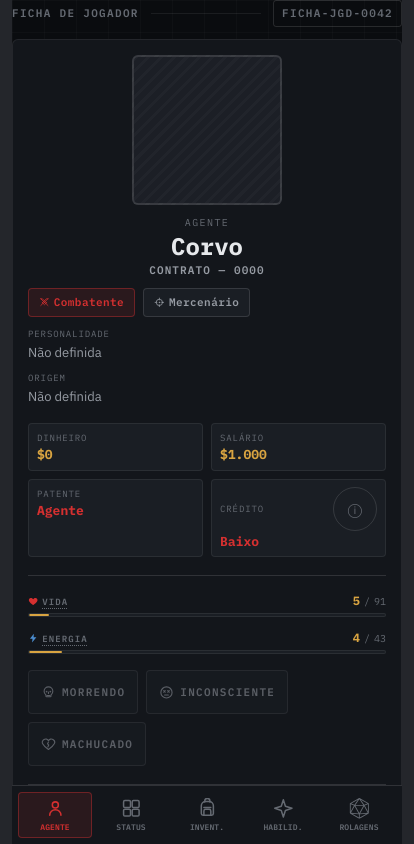
Test case: FichaCampanhaCard › aba Rolagens (`mostrarRolagensCompacto`) › abre Rolagens pela navegação mobile quando o card hospeda o painel
The width and height of the screenshot is (414, 844).
Step 1. Click the button "Rolagens" → coordinates (359, 815), box [322,792,396,838]
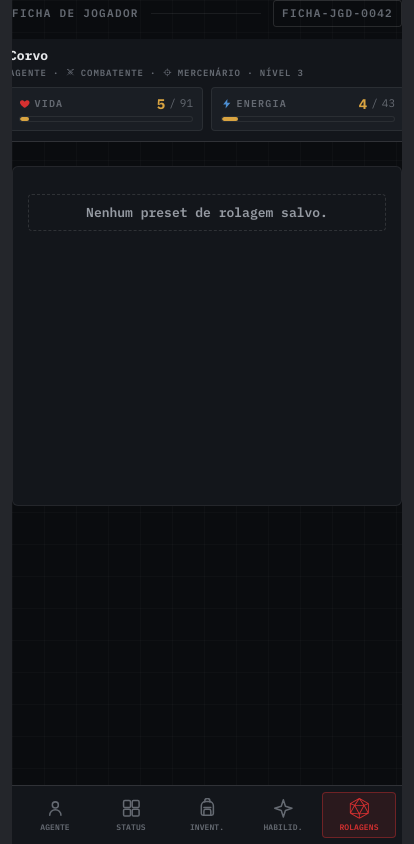
Result: the element showing "Nenhum preset de rolagem salvo." is shown at [28,194,386,231]
